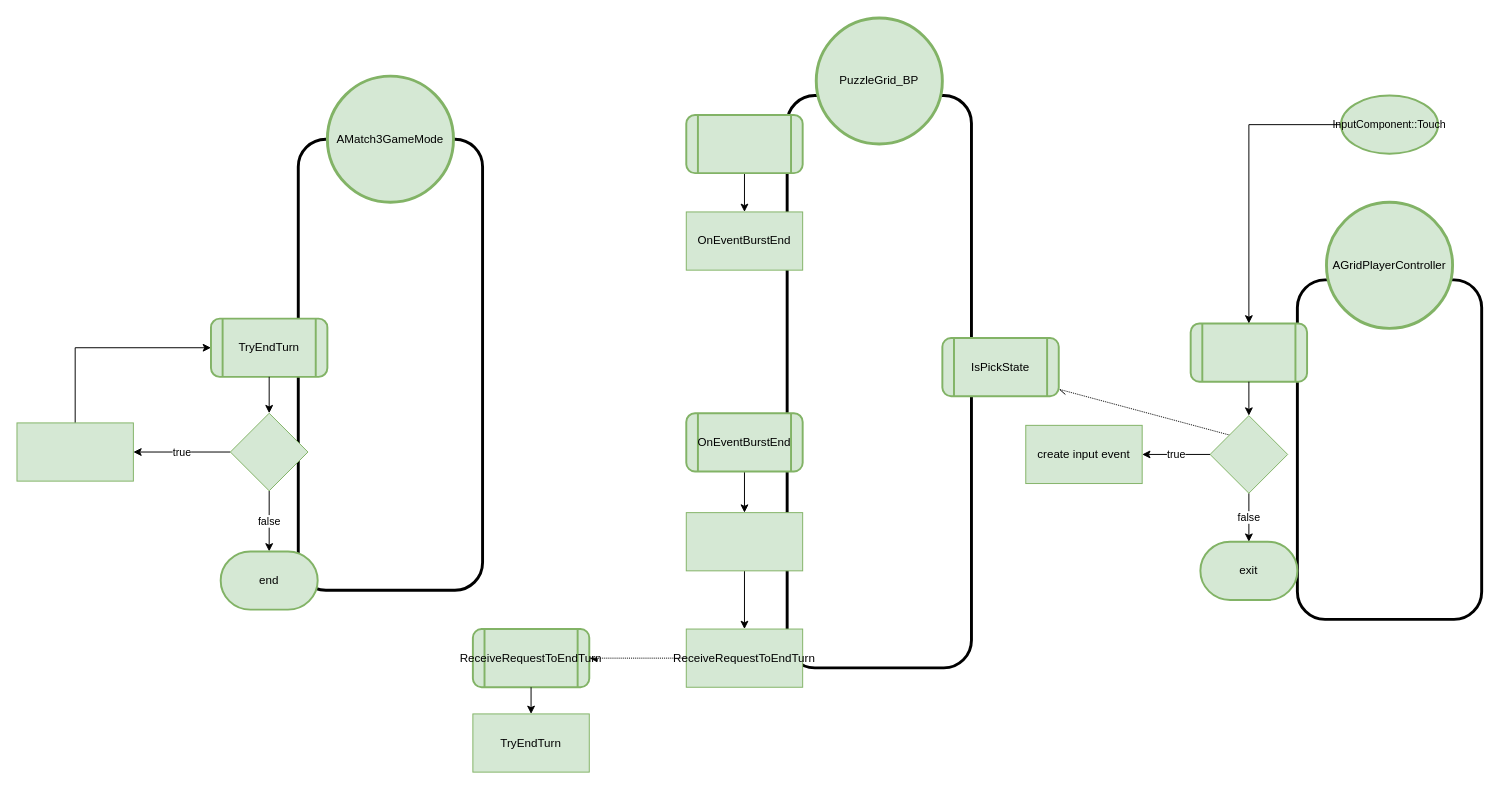
This 1500x790 diagram has some shape labels left out. The centre of each missing label's shape, as x and y in pixels:
"BeginTouch" belongs at [1248,352].
"CheckPopTiles" belongs at [744,143].
"IsPendingGameplayFinish" belongs at [268,451].
"NotPaused IsPickState TileHandleComp" belongs at [1248,454].
"RegisterBoardState(Pick)" belongs at [744,541].
"wait" belongs at [74,451].
